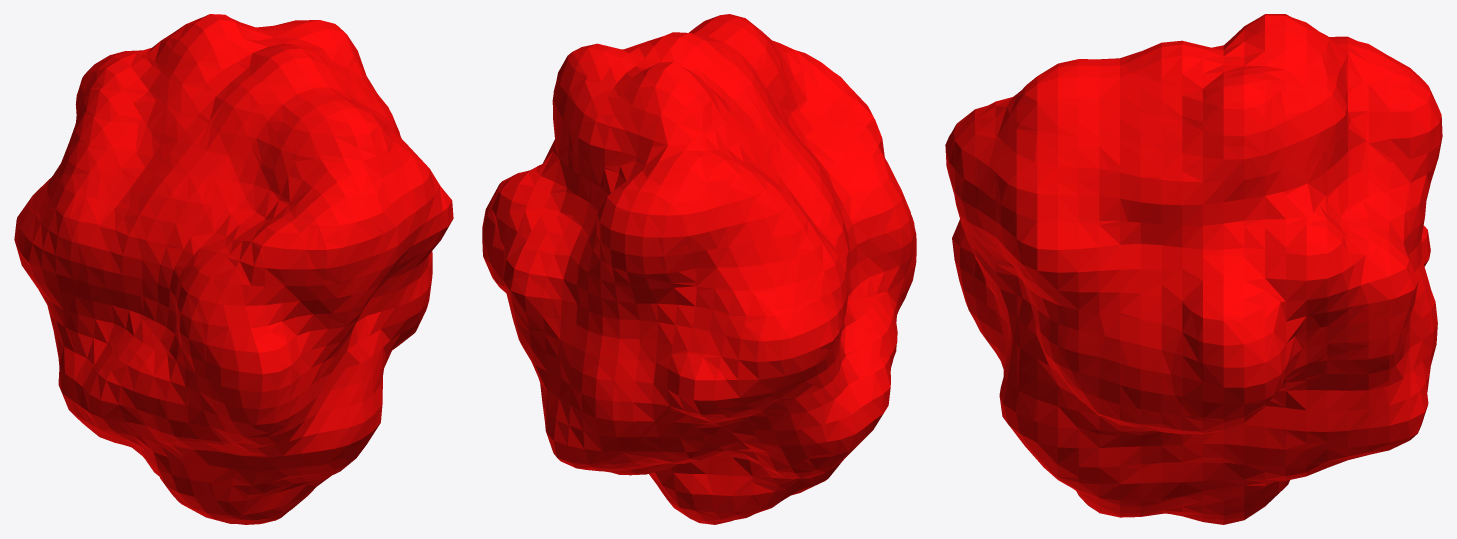
Rendered from thrC_coarse.dae.
3 renders of one model, left to right at view 1: azimuth 30°, elevation 25°; view 2: azimuth 150°, elevation 25°; view 3: azimuth 270°, elevation 25°, orthographic. The views are drawn at different scales.
Parts seen in each view (by area): view 1: thrC; view 2: thrC; view 3: thrC.
Boxes of the visible parts, left/top/right/bottom form: thrC: left=14, top=14, right=453, bottom=524; thrC: left=482, top=14, right=916, bottom=524; thrC: left=945, top=14, right=1442, bottom=524.
Bounding box in the file's own units: 54.53 × 64.19 × 56.19.
